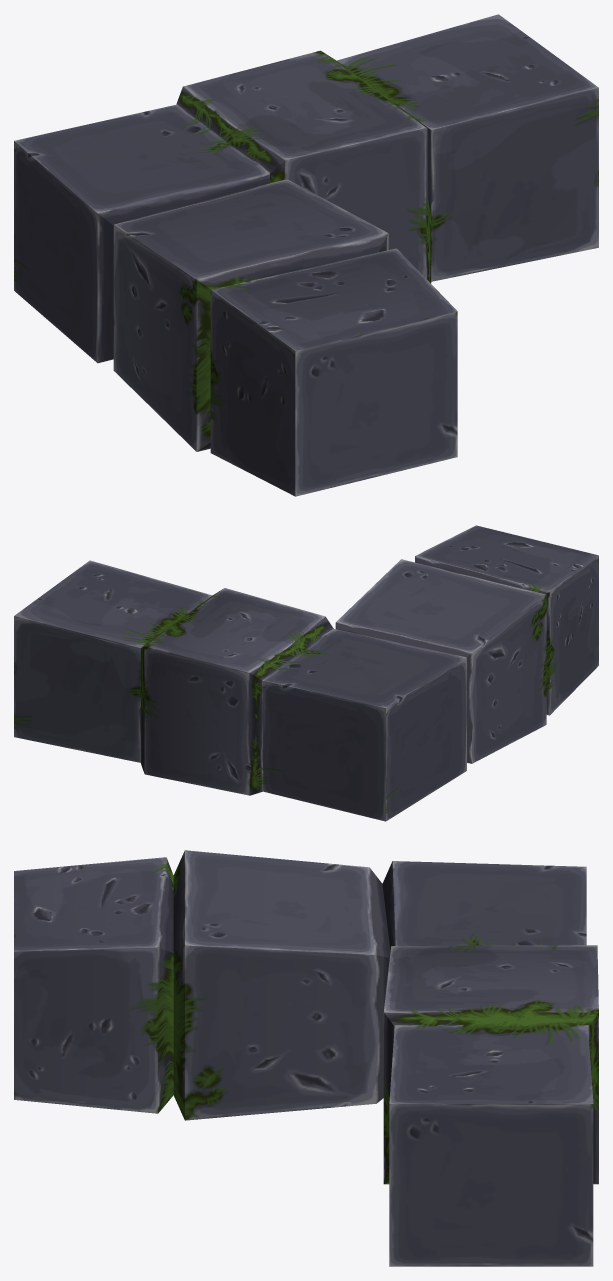
File: MOD_WallCover_01_E_corner_concave_2.fbx
3 views of the same model, one above another, from view 1: azimuth 30°, elevation 25°; view 2: azimuth 150°, elevation 25°; view 3: azimuth 270°, elevation 25° (orthographic). The views are drawn at different scales.
Visible parts, largest first — view 1: MOD_WallCover_01_E_corner_concave_2; view 2: MOD_WallCover_01_E_corner_concave_2; view 3: MOD_WallCover_01_E_corner_concave_2.
Boxes of the visible parts, x1,y1,x2,y2 form: MOD_WallCover_01_E_corner_concave_2: (14,14,598,496); MOD_WallCover_01_E_corner_concave_2: (14,525,598,821); MOD_WallCover_01_E_corner_concave_2: (14,850,598,1266).
Bounding box in the file's own units: 217 × 71.12 × 215.
